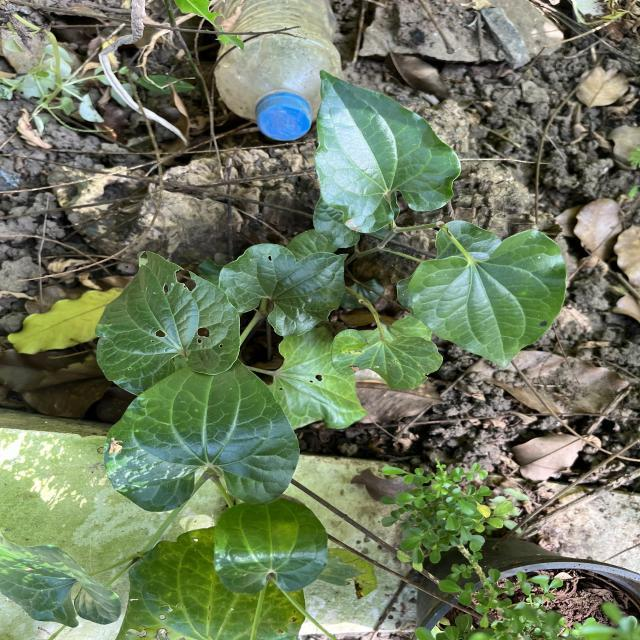Piper longum: (102, 350, 306, 514), (312, 66, 464, 236), (405, 227, 570, 372)
